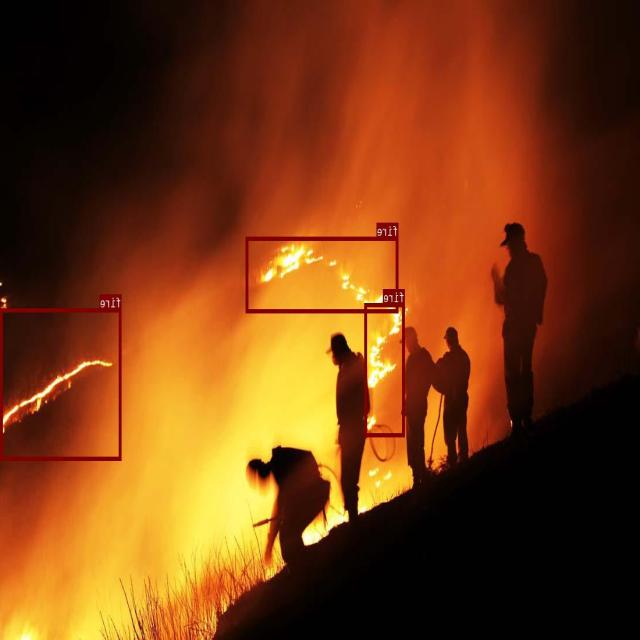fire: (1, 308, 122, 459), (247, 236, 399, 312), (365, 303, 405, 436)
